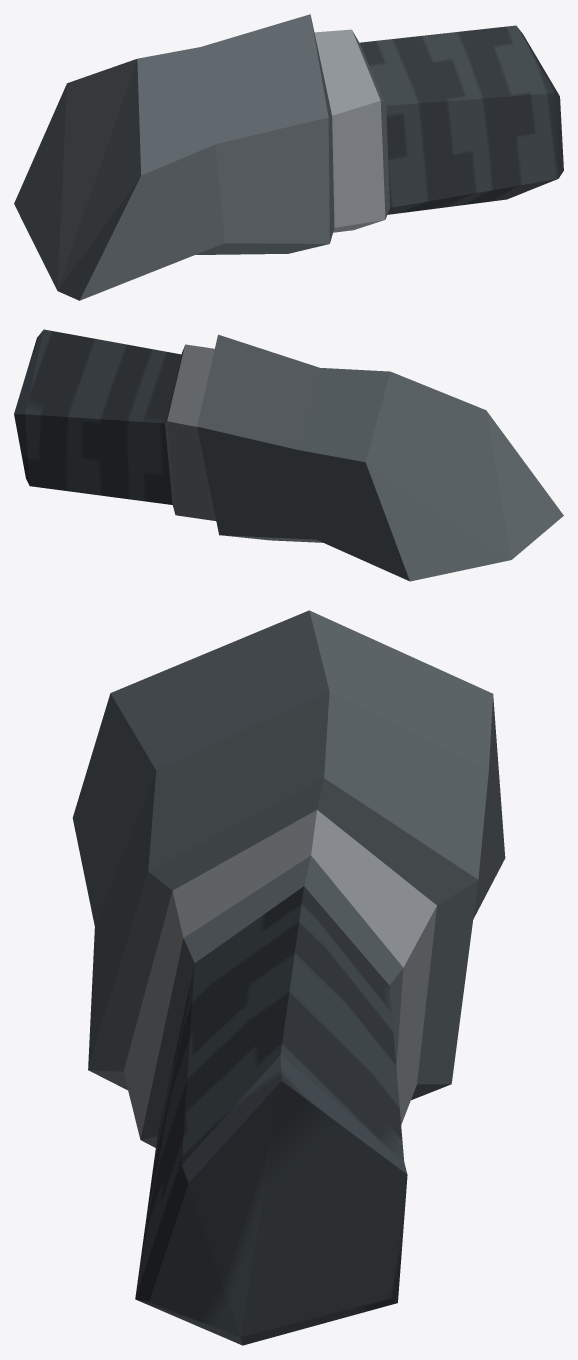
Rendered from Chr_ArmUpperLeft_Female_05_Static.fbx.
The picture shows the model from 3 angles, top to bottom: view 1: azimuth 30°, elevation 25°; view 2: azimuth 150°, elevation 25°; view 3: azimuth 270°, elevation 25°; orthographic projection. The views are drawn at different scales.
Visible parts, largest first — view 1: Chr_ArmUpperLeft_Female_05_Static; view 2: Chr_ArmUpperLeft_Female_05_Static; view 3: Chr_ArmUpperLeft_Female_05_Static.
Part boxes in pixels (bbox=[...]): Chr_ArmUpperLeft_Female_05_Static: bbox=[14, 14, 563, 300]; Chr_ArmUpperLeft_Female_05_Static: bbox=[14, 329, 563, 581]; Chr_ArmUpperLeft_Female_05_Static: bbox=[72, 610, 505, 1345].
Bounding box in the file's own units: 0.3535 × 0.1455 × 0.136.
